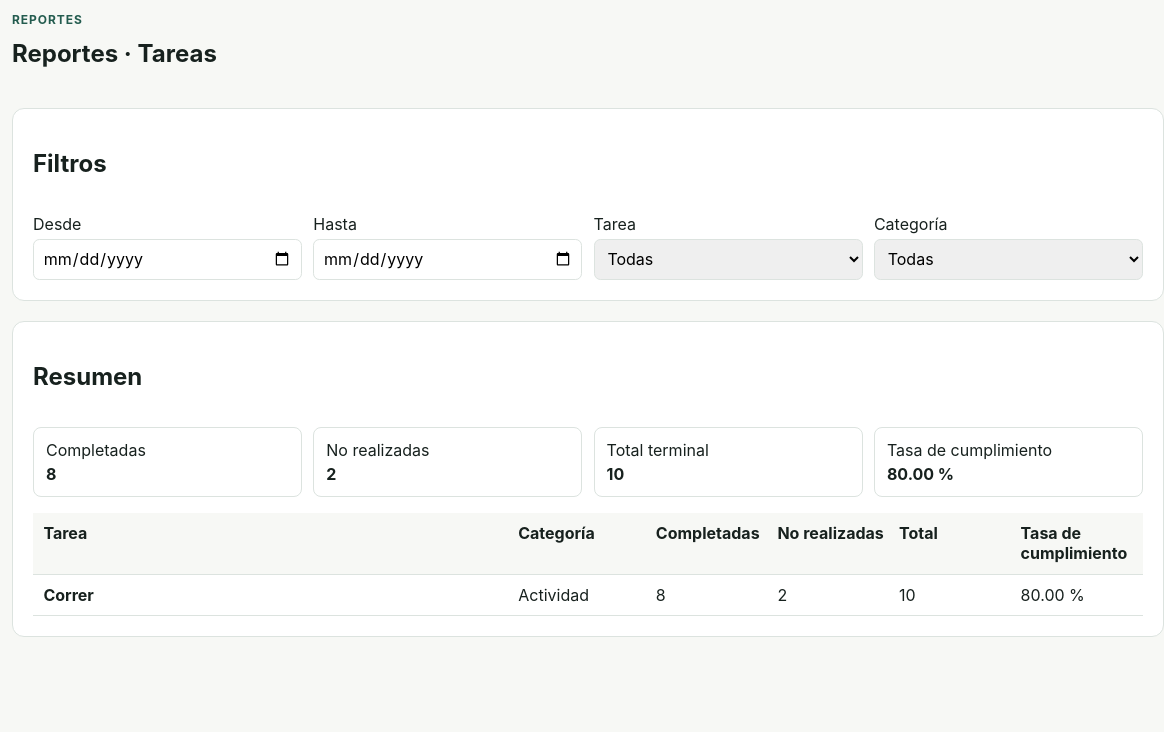
Test: TaskReportsPage › sends all non-date filters and rejects reversed periods locally
Select "Correr" in the dropdown labelled "Tarea": (728, 259) x1=594 y1=238 x2=863 y2=280
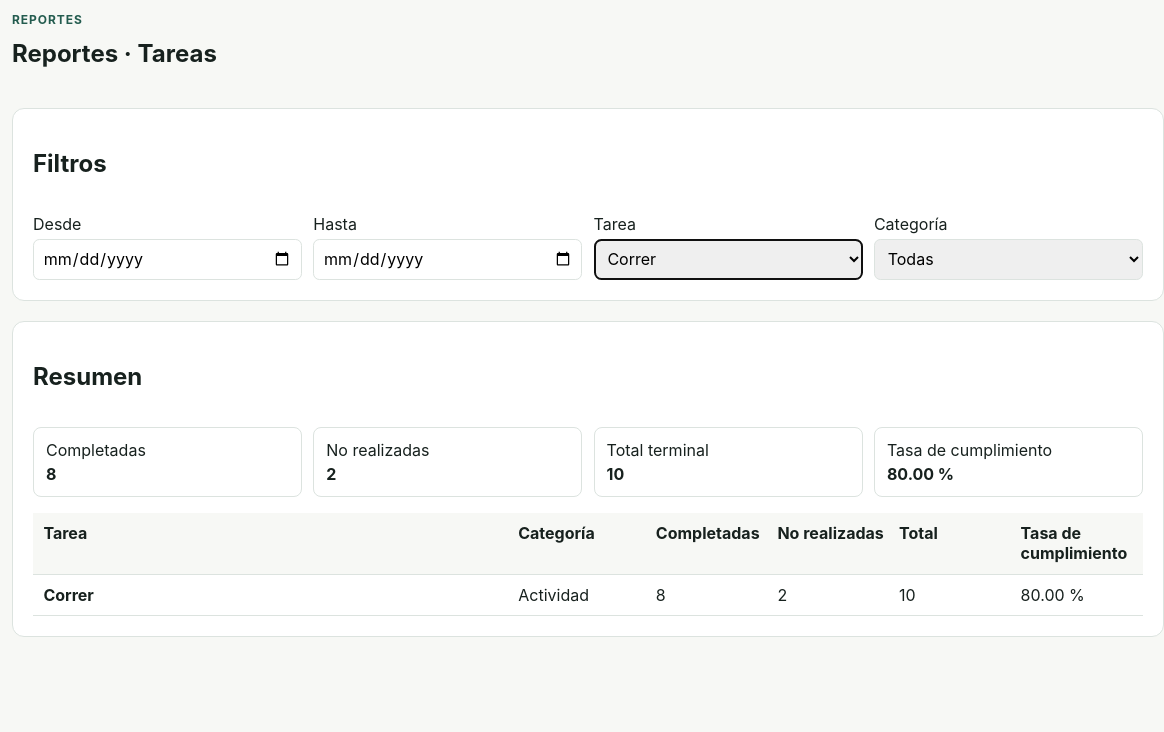
Select "Actividad" in the dropdown labelled "Categoría": (1008, 259) x1=874 y1=238 x2=1143 y2=280
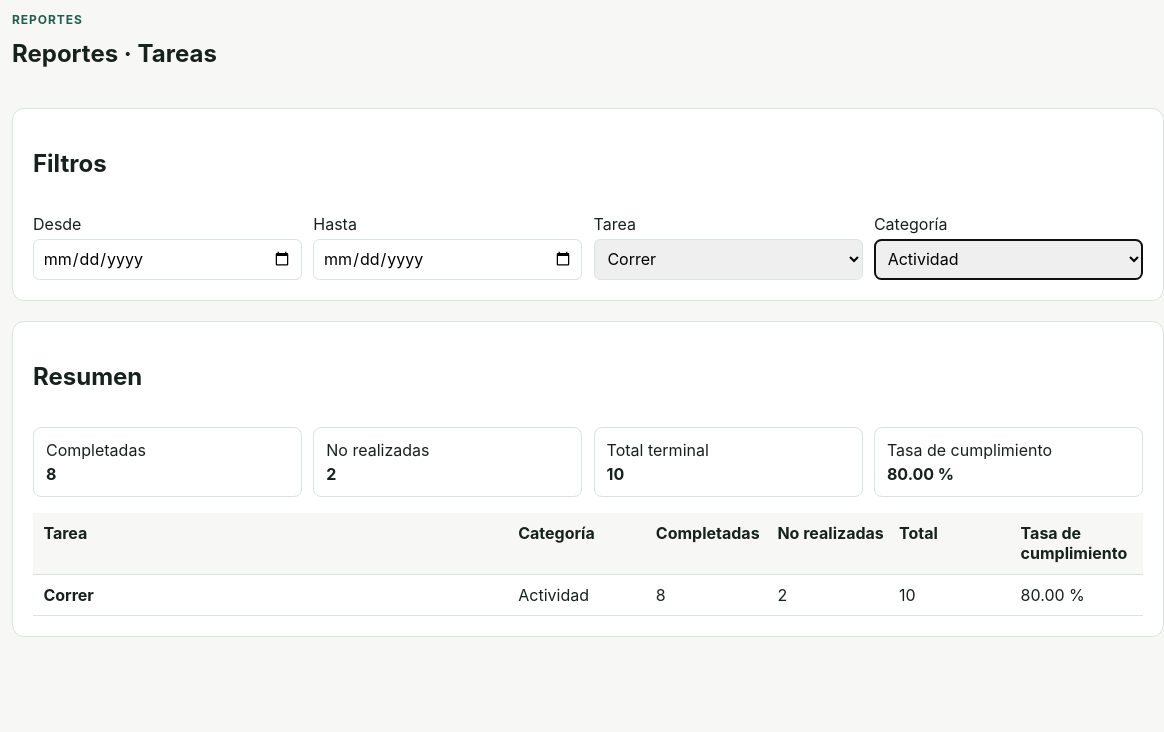
In the date field labelled "Desde": (168, 259) x1=33 y1=238 x2=302 y2=280, type "2026-08-01"
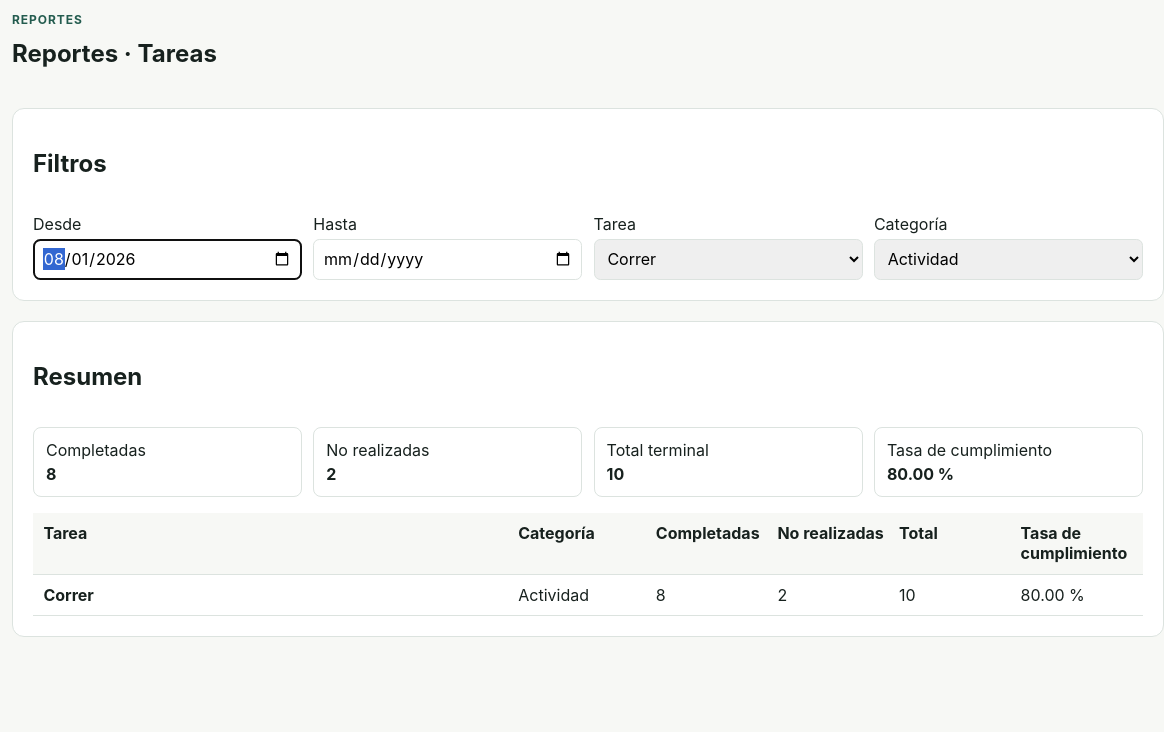
In the date field labelled "Hasta": (448, 259) x1=313 y1=238 x2=582 y2=280, type "2026-07-01"
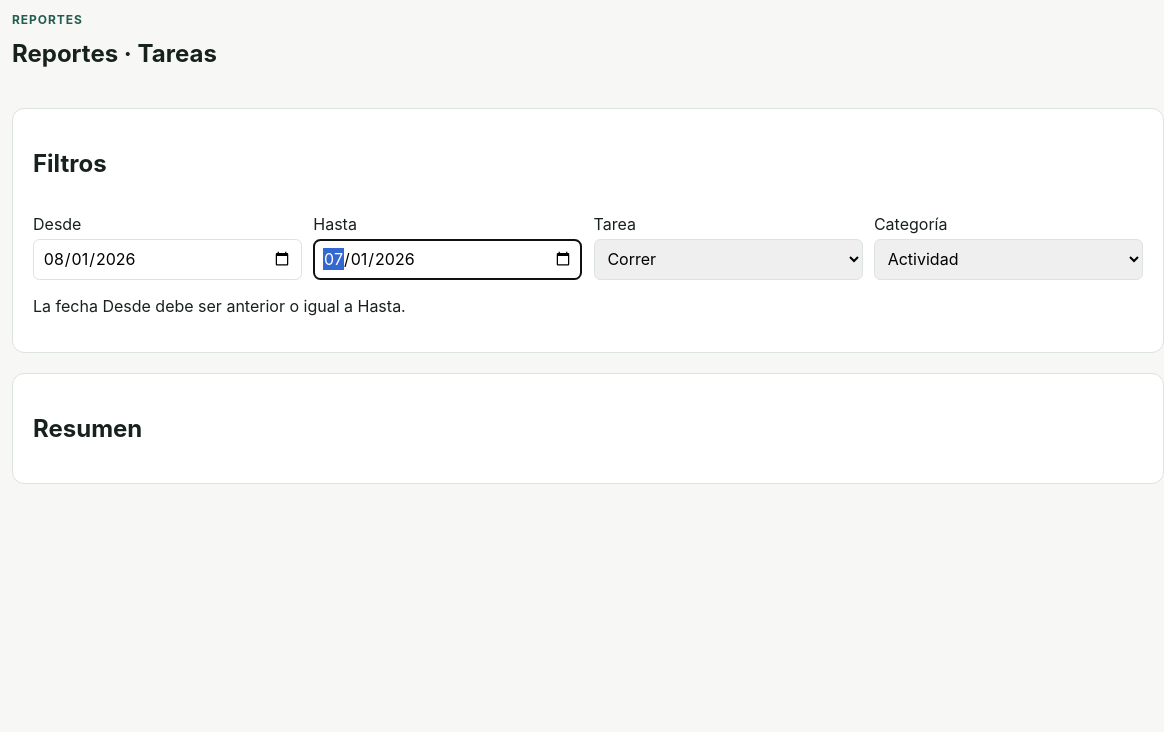
Expected: the message shows "fecha Desde", x1=33 y1=296 x2=406 y2=316
